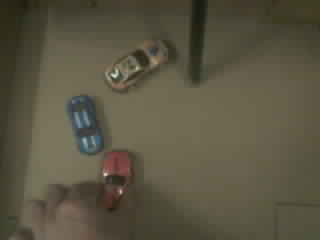Car: (104, 40, 168, 90), (67, 94, 103, 153), (102, 150, 131, 208)
